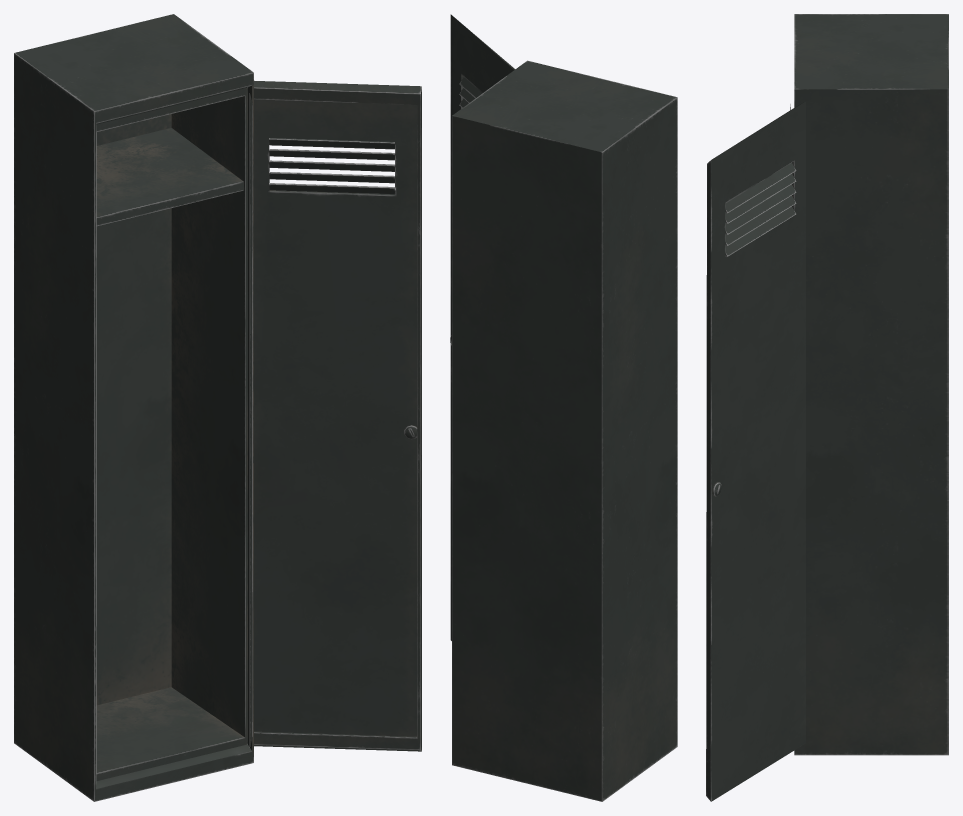
Rendered from lockerWithDoor.fbx.
3 renders of one model, left to right at view 1: azimuth 30°, elevation 25°; view 2: azimuth 150°, elevation 25°; view 3: azimuth 270°, elevation 25°, orthographic. The views are drawn at different scales.
Parts seen in each view (by area): view 1: M.O.C, M.O.C.001; view 2: M.O.C, M.O.C.001; view 3: M.O.C, M.O.C.001.
Part boxes in pixels (<box>): M.O.C: <box>14,14,253,801</box>; M.O.C.001: <box>247,80,421,751</box>; M.O.C: <box>452,60,677,801</box>; M.O.C.001: <box>450,14,515,640</box>; M.O.C: <box>790,14,948,755</box>; M.O.C.001: <box>706,101,805,801</box>.
Size of the model in its own units: 69.21 by 160 by 53.
